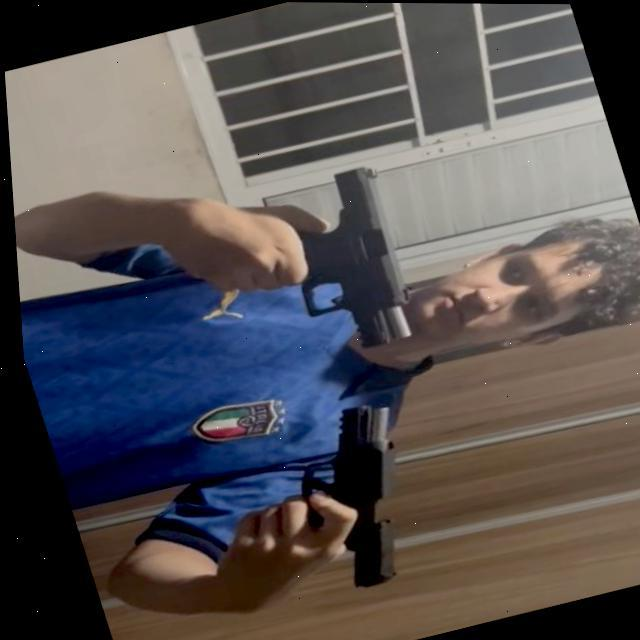gun: (268, 394, 440, 598), (263, 159, 429, 361)
